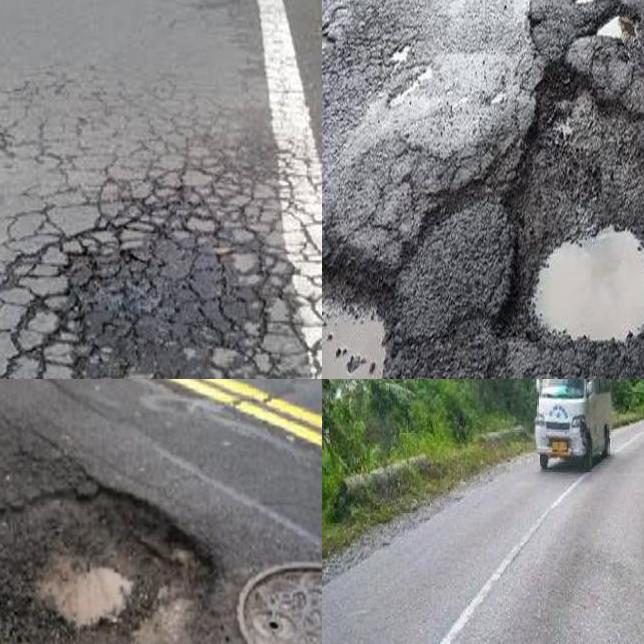Lubang: (0, 438, 210, 644), (518, 219, 644, 345), (322, 251, 399, 379), (243, 565, 322, 644)
Retak Buaya: (0, 145, 322, 379)
